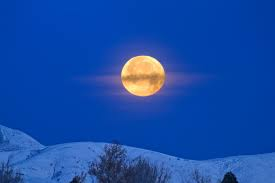moon: (118, 54, 166, 97)
